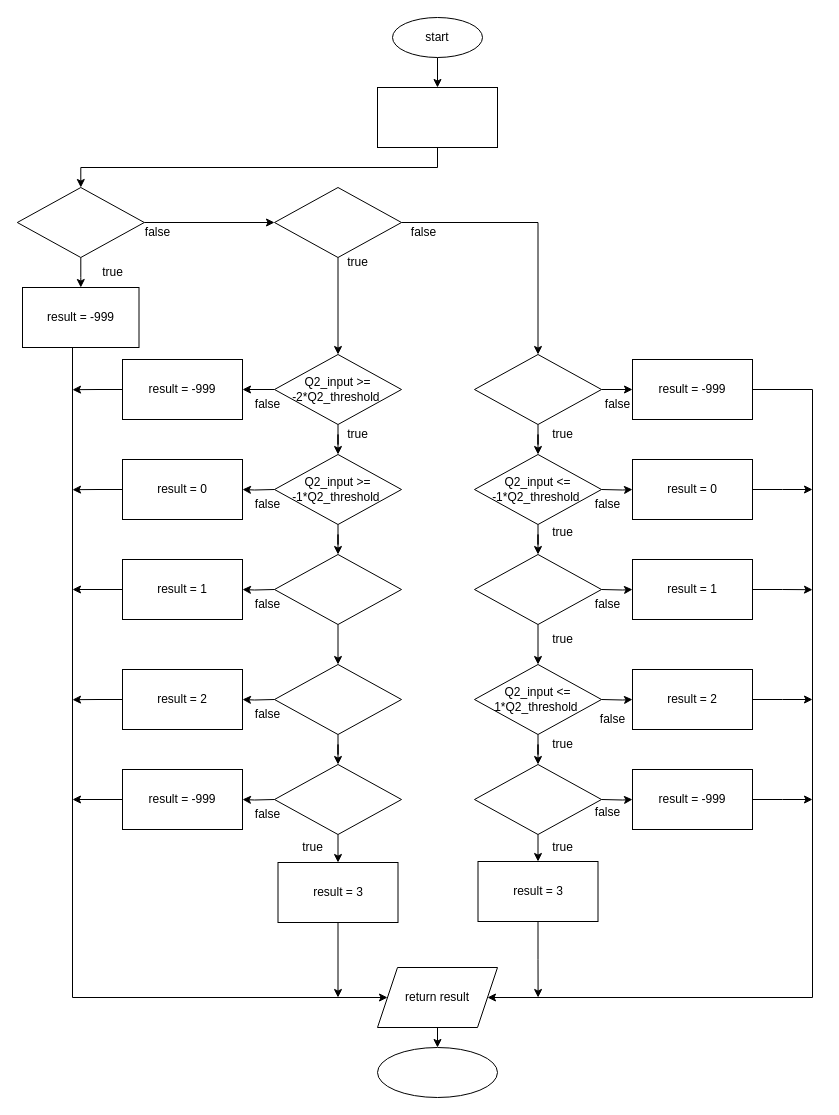
This 839x1115 diagram has some shape labels left out. The shapes that lost their labels are listed below. From the top down, each one's box as (x1, y1, x2, y2) in pixels, then its label:
(376, 86, 498, 148): declare Q2_input, Q2_threshold, result
(16, 186, 144, 258): Q2_ threshold == 0
(274, 186, 402, 258): Q2_threshold > 0
(474, 354, 602, 424): Q2_input <= -2*Q2_threshold
(274, 554, 402, 624): Q2_input >= 0
(474, 554, 602, 624): Q2_input <= 0
(274, 664, 402, 734): Q2_input >= 1*Q2_threshold
(274, 764, 402, 834): Q2_input <= 2*Q2_threshold
(474, 764, 602, 834): Q2_input >= 2 *Q2_threshold
(376, 1046, 498, 1098): stop
